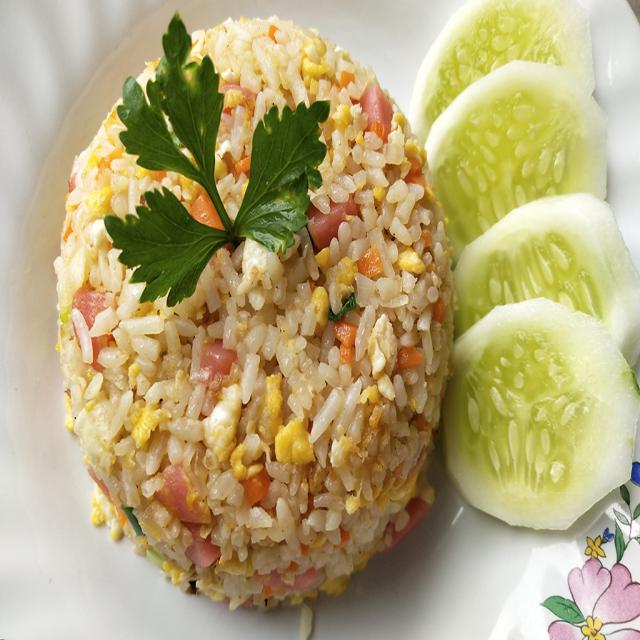carb: (71, 277, 423, 594), (206, 7, 364, 137)
fried rice: (38, 44, 444, 613)
meat: (158, 465, 212, 533), (312, 185, 358, 251), (74, 288, 109, 340)
vegetable: (458, 3, 616, 504), (141, 203, 210, 289), (112, 498, 144, 549), (334, 294, 353, 318)
